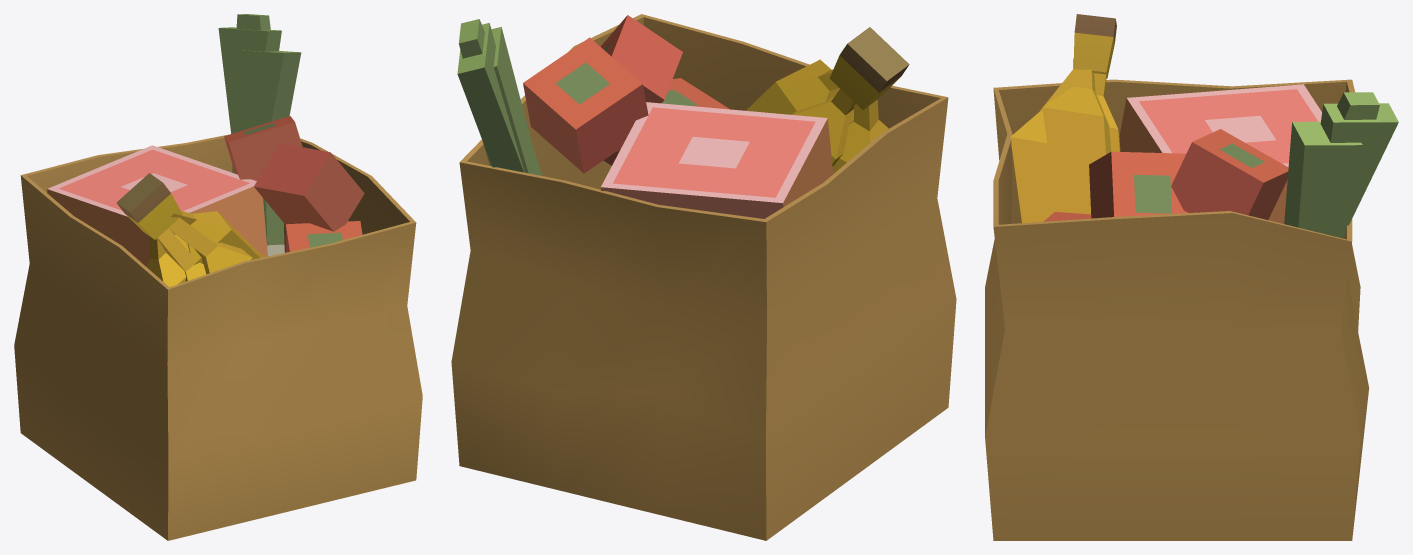
File: inhand_Grocery.fbx
3 views of the same model, side by side, from view 1: azimuth 30°, elevation 25°; view 2: azimuth 150°, elevation 25°; view 3: azimuth 270°, elevation 25° (orthographic). The views are drawn at different scales.
Visible parts, largest first — view 1: inhand_Grocery; view 2: inhand_Grocery; view 3: inhand_Grocery.
Part boxes in pixels (bbox=[...]): inhand_Grocery: bbox=[14, 14, 422, 540]; inhand_Grocery: bbox=[451, 14, 956, 540]; inhand_Grocery: bbox=[985, 14, 1398, 540].
Bounding box in the file's own units: 0.6862 × 0.7638 × 0.9135.
